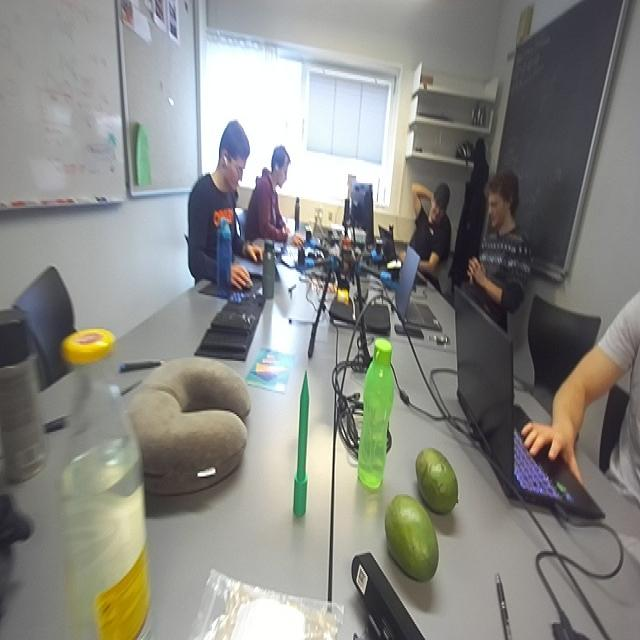probe: (293, 370, 310, 517)
